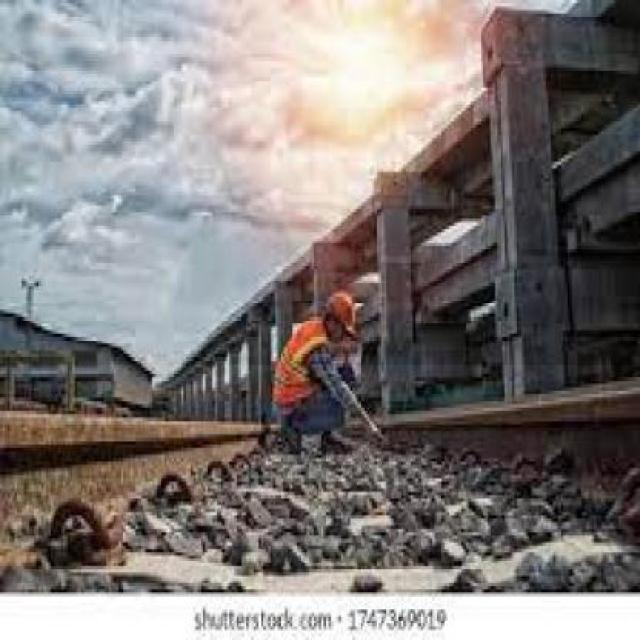rail: (1, 367, 640, 610)
